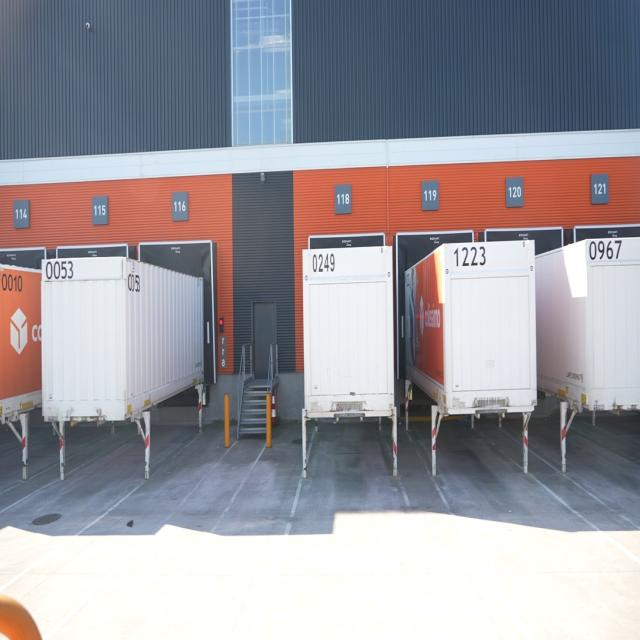Code: (452, 246, 487, 270), (588, 239, 624, 262), (44, 258, 78, 282), (311, 250, 338, 276), (1, 268, 24, 296)
